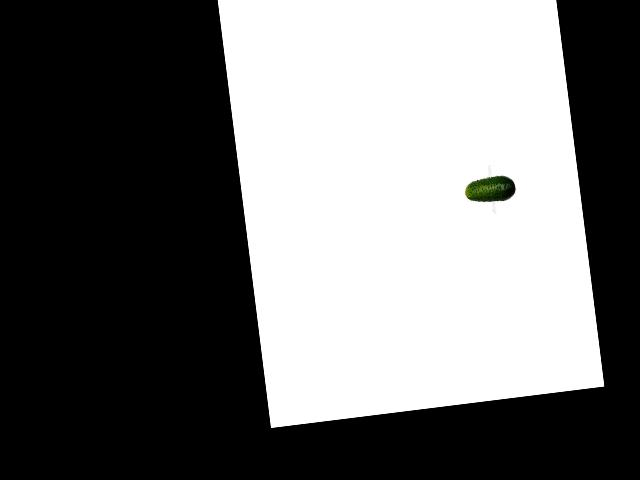cucumber: (463, 173, 517, 205)
